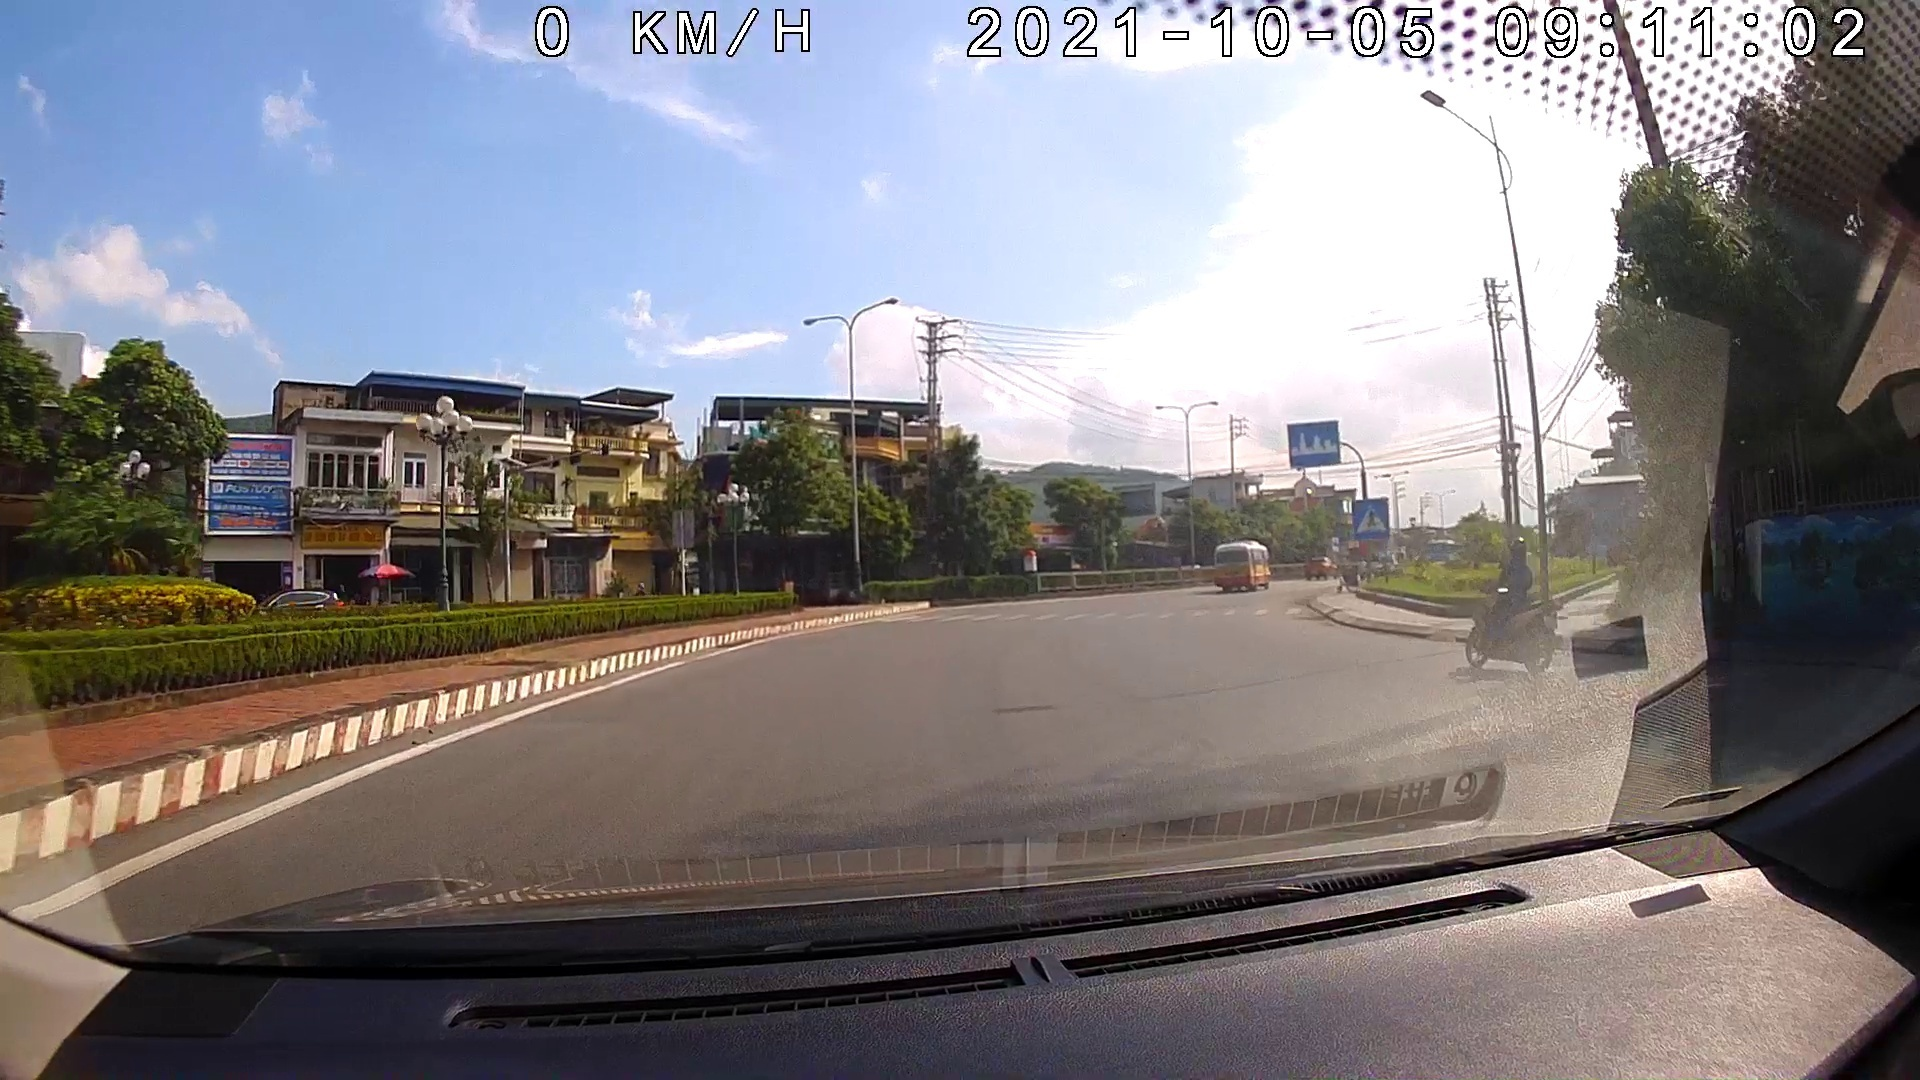Bien khac: (1288, 418, 1338, 465)
Nguoi di bo: (1352, 497, 1391, 537)
